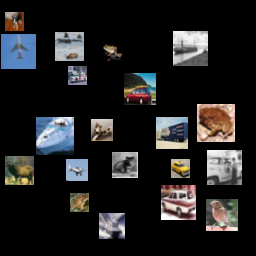airplane: (180, 8, 212, 40)
automobile: (134, 175, 150, 191)
bird: (77, 169, 109, 201), (119, 41, 145, 67), (110, 189, 132, 211), (176, 130, 195, 149), (193, 56, 209, 72)
cat: (46, 26, 84, 64)
deer: (131, 6, 163, 38), (205, 195, 231, 221)
dog: (31, 206, 60, 235), (79, 1, 98, 20)
frog: (185, 166, 211, 192)
ship: (15, 111, 53, 149), (67, 76, 102, 111), (203, 90, 235, 122), (36, 173, 55, 192)
